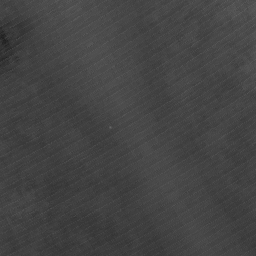Target: (107, 124, 113, 130)
